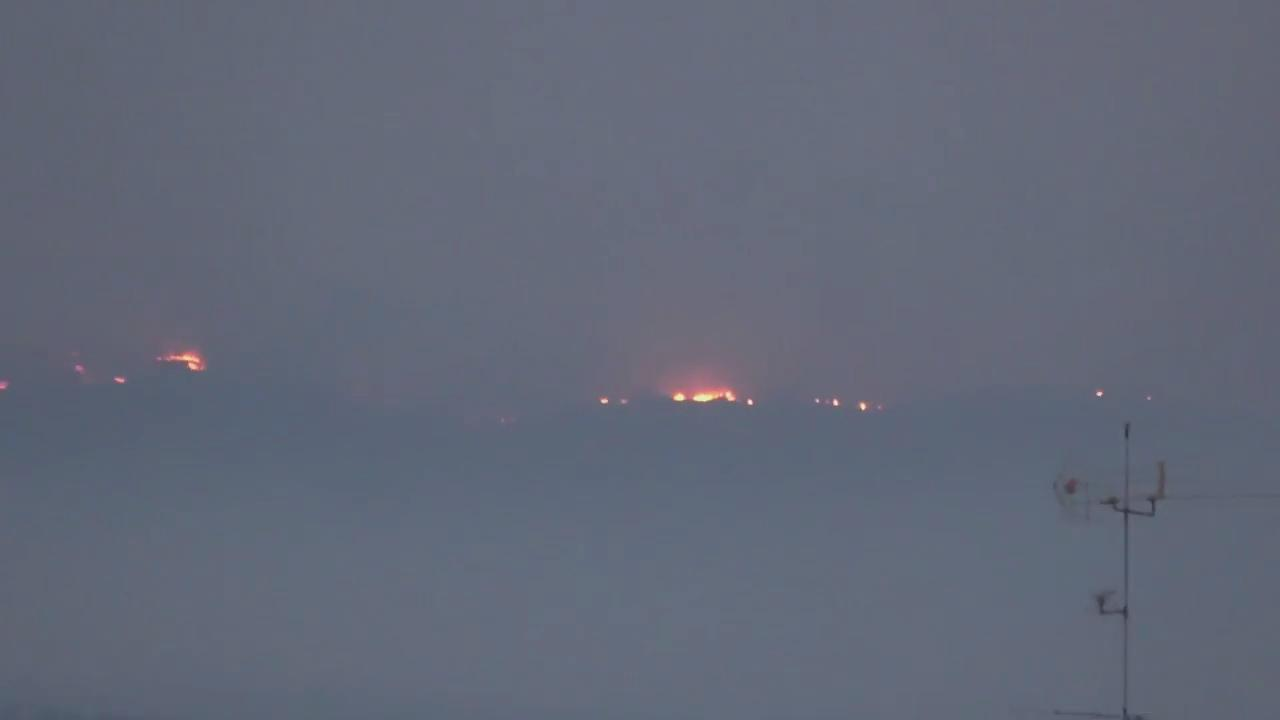fire: (668, 385, 753, 408), (158, 350, 208, 375)
